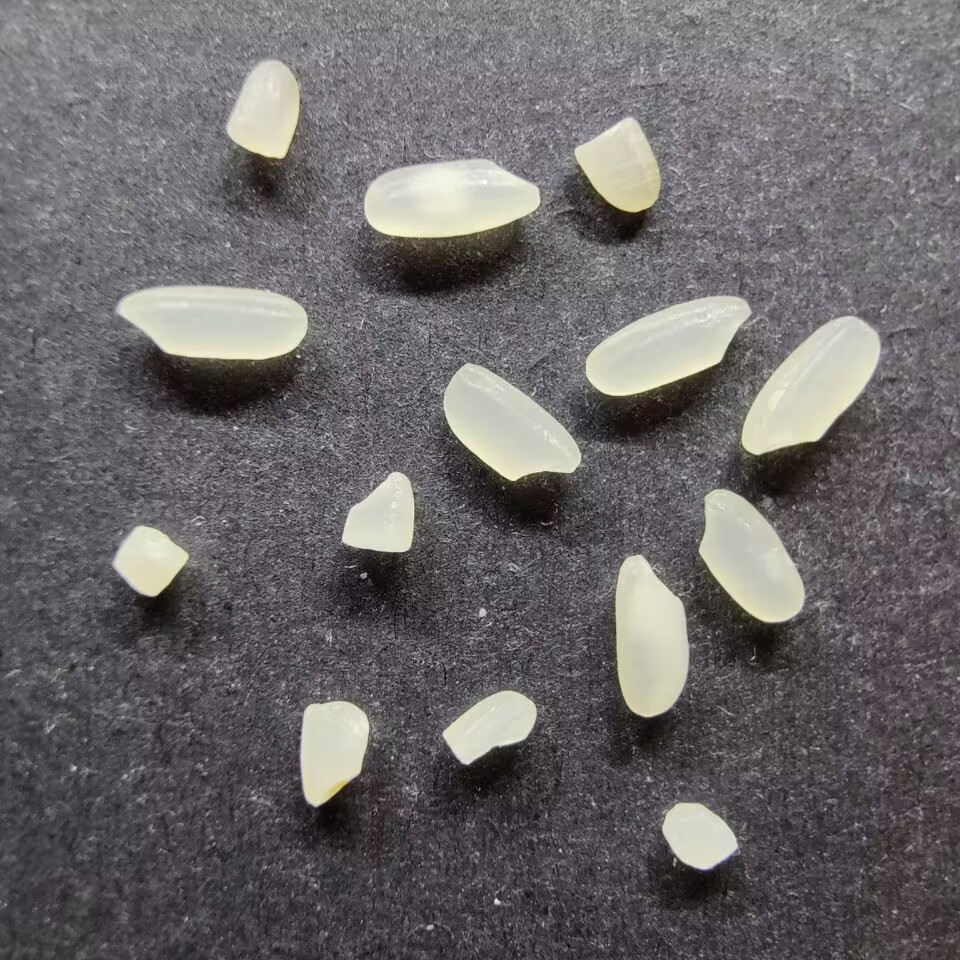broken: (572, 115, 664, 214), (222, 58, 301, 162), (298, 699, 369, 810), (441, 687, 538, 768), (340, 468, 415, 555), (660, 798, 739, 873), (111, 524, 190, 599)
rice: (739, 314, 881, 455), (583, 293, 751, 397), (441, 361, 582, 482), (696, 487, 807, 623), (114, 284, 308, 360), (362, 158, 542, 238), (613, 552, 691, 717)
